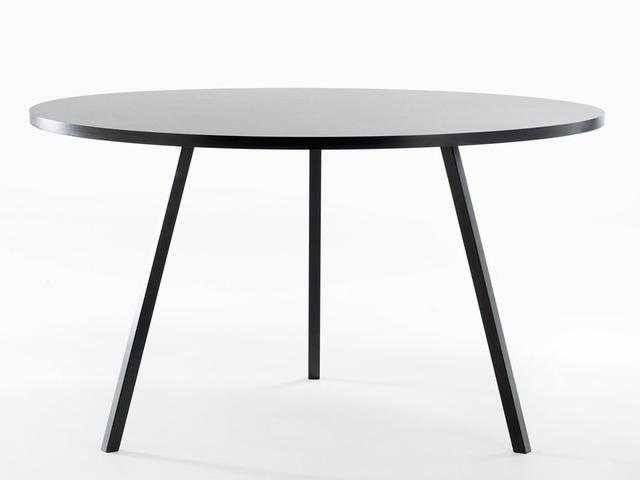obstacle: (30, 88, 603, 452)
